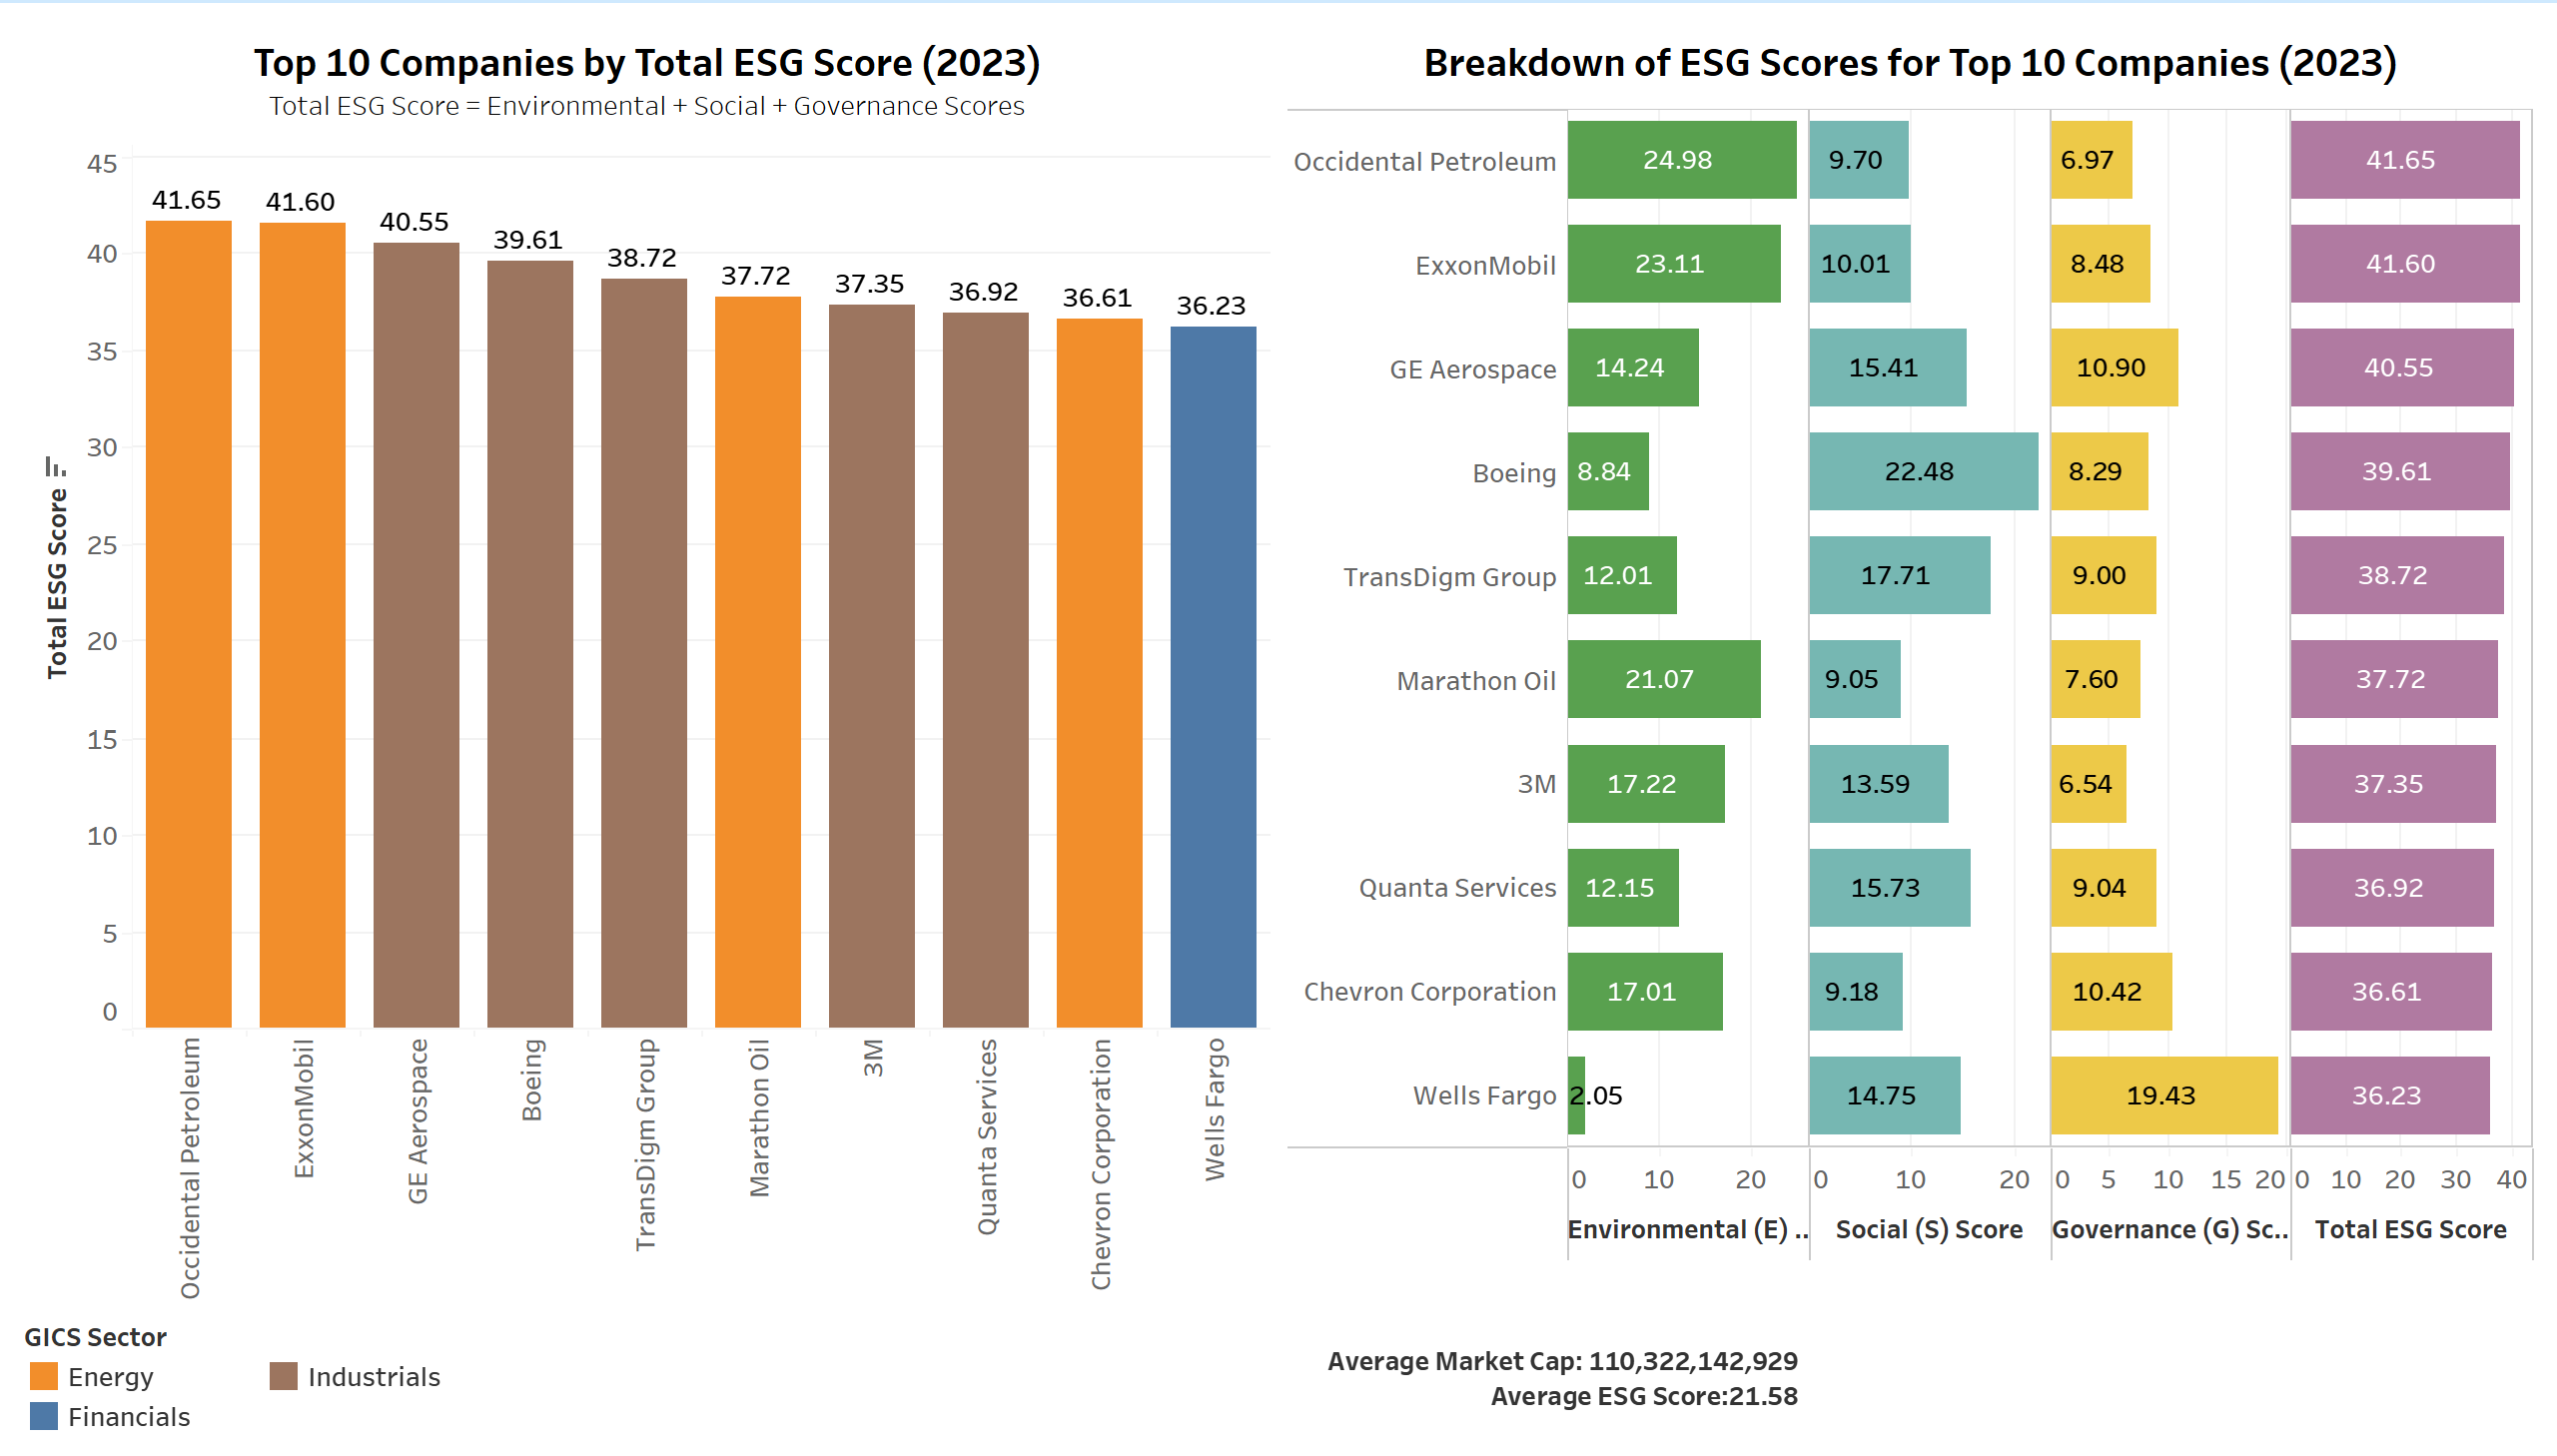

Layout of this report page (visuals, bound fields, positions):
{"tool":"tableau","page":{"name":"Overview Dashboard","canvas":[1000,1000],"units":"permille","ordinal":2},"visuals":[{"type":"worksheet","title":"Top 10 Companies (ESG)","mark":"Bar","rows":["F8"],"cols":["F2"],"box":[7.5,13.9,492.5,880.2]},{"type":"worksheet","title":"Top 10 Breakdown of ESG Score","mark":"Bar","rows":["F2"],"cols":["F5","F6","F7","F8"],"box":[500,13.9,492.6,880.2]},{"type":"legend","title":"Top 10 Companies (ESG)","param":"[federated.183ex6k1i21zd11aauyrt0kpkp7h].[none:F3:nk]","box":[7.5,894.1,492.5,92.1]},{"type":"worksheet","title":"Summary Widget","mark":"Automatic","box":[500,894.1,492.6,92.1]}]}

Visuals, with their boxes on the dashboard's canvas, which has no fixed pixel size, in thousandths of its width and height (x1, y1, x2, y2). These are canvas units, not pixel positions in the 2557x1456 screenshot, which may show the page scaled, cropped or inside an application window:
"Top 10 Companies (ESG)" worksheet (Bar marks): (x1=8, y1=14, x2=500, y2=894)
"Top 10 Breakdown of ESG Score" worksheet (Bar marks): (x1=500, y1=14, x2=993, y2=894)
"Top 10 Companies (ESG)" legend: (x1=8, y1=894, x2=500, y2=986)
"Summary Widget" worksheet: (x1=500, y1=894, x2=993, y2=986)
